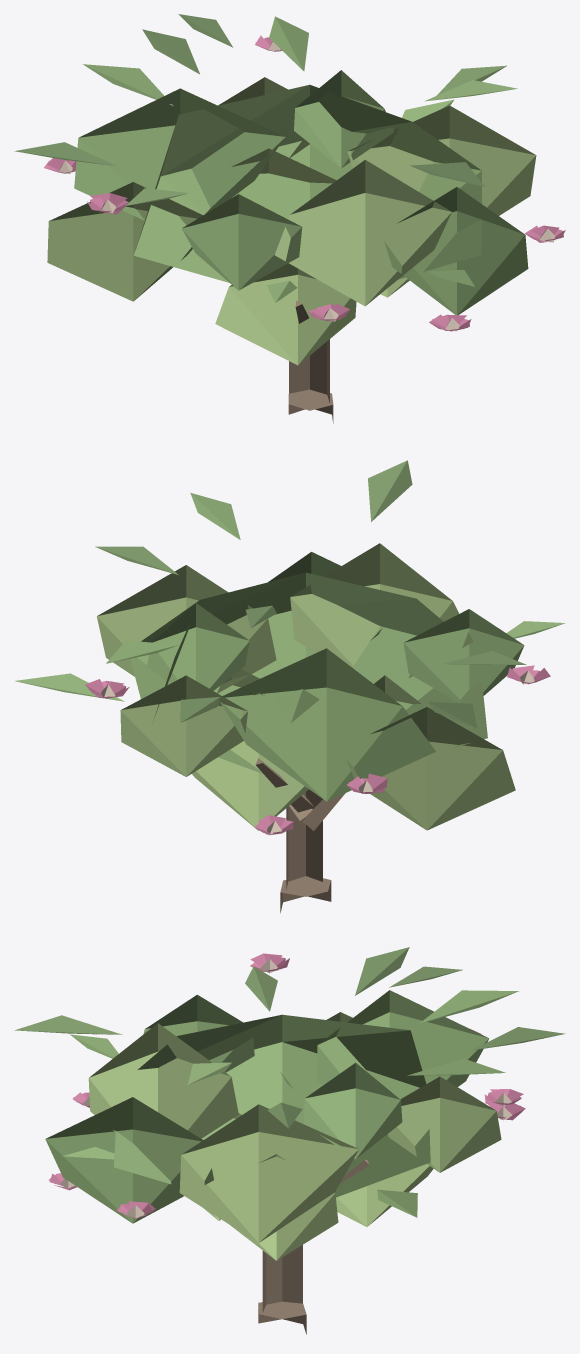
File: nong.sang@flowering__bloom.glb
3 views of the same model, one above another, from view 1: azimuth 30°, elevation 25°; view 2: azimuth 150°, elevation 25°; view 3: azimuth 270°, elevation 25° (orthographic). The views are drawn at different scales.
Visible parts, largest first — view 1: nong.sang@flowering__bloom; view 2: nong.sang@flowering__bloom; view 3: nong.sang@flowering__bloom.
Boxes of the visible parts, x1=… form: nong.sang@flowering__bloom: x1=14, y1=14, x2=565, y2=423; nong.sang@flowering__bloom: x1=15, y1=460, x2=565, y2=913; nong.sang@flowering__bloom: x1=15, y1=947, x2=565, y2=1334.
Size of the model in its own units: 8.5 by 6.33 by 9.27.
